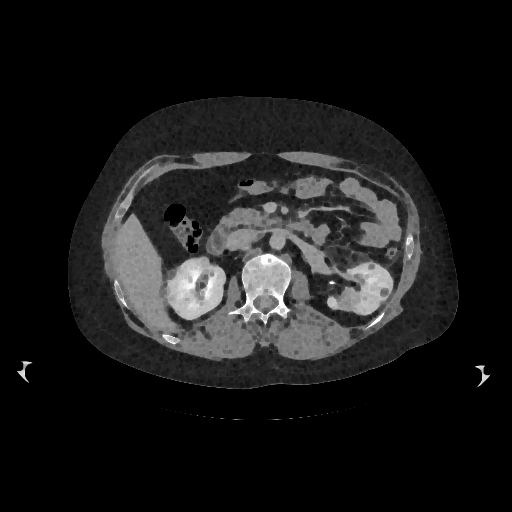Lesion: (335, 287, 362, 316)
